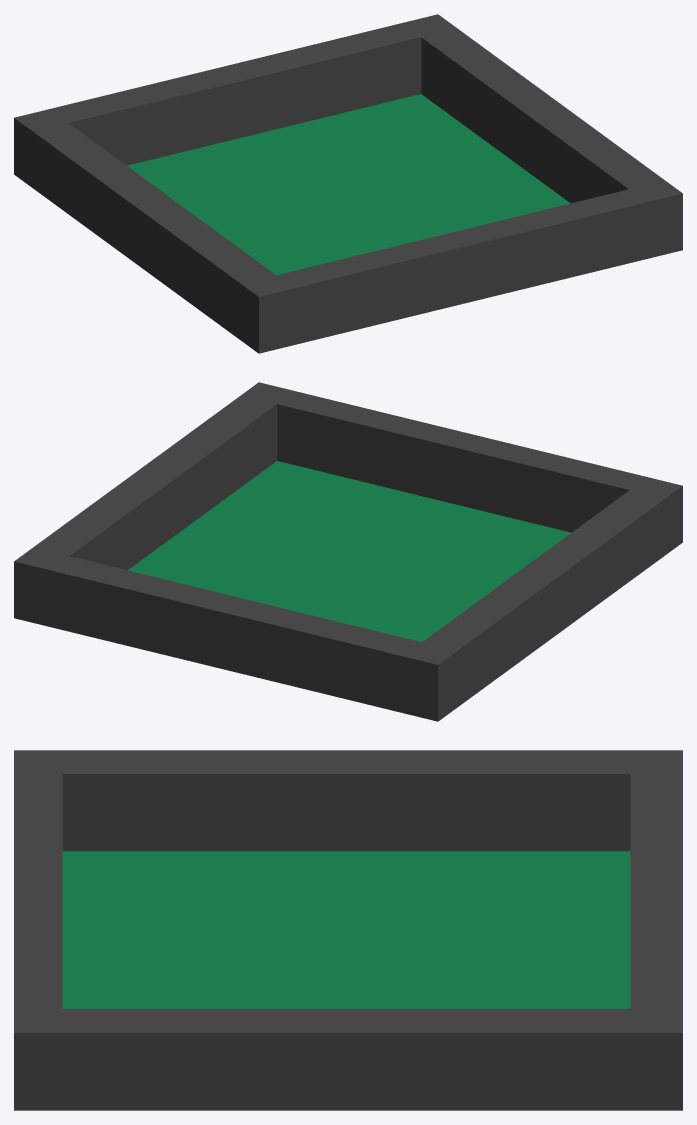
The model's file is Tree_holder.fbx.
3 views of the same model, one above another, from view 1: azimuth 30°, elevation 25°; view 2: azimuth 150°, elevation 25°; view 3: azimuth 270°, elevation 25° (orthographic). The views are drawn at different scales.
Parts seen in each view (by area): view 1: Cube, Cube.001; view 2: Cube, Cube.001; view 3: Cube, Cube.001.
Part boxes in pixels (x1,y1,x2,y2): Cube: [14, 14, 682, 353]; Cube.001: [127, 94, 570, 275]; Cube: [14, 382, 682, 721]; Cube.001: [128, 461, 570, 641]; Cube: [14, 750, 682, 1110]; Cube.001: [62, 851, 630, 1008].
Size of the model in its own units: 408 by 53.99 by 408.
